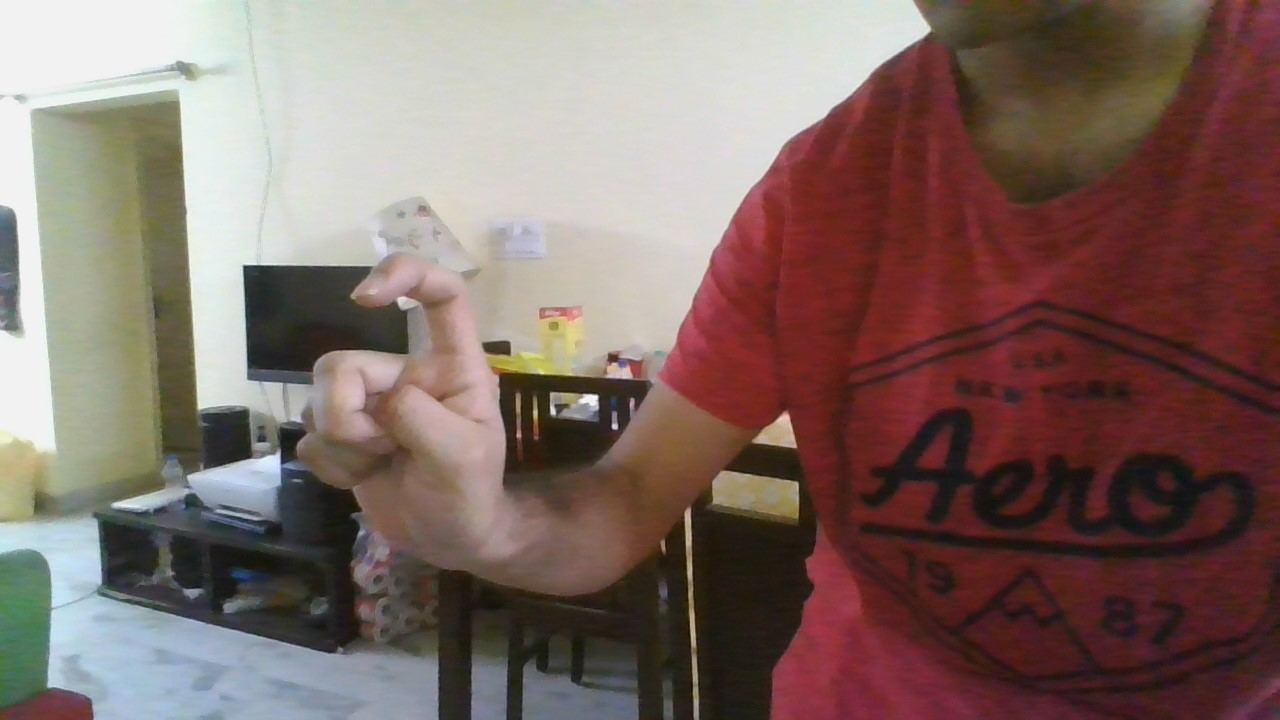x: (285, 244, 520, 551)
